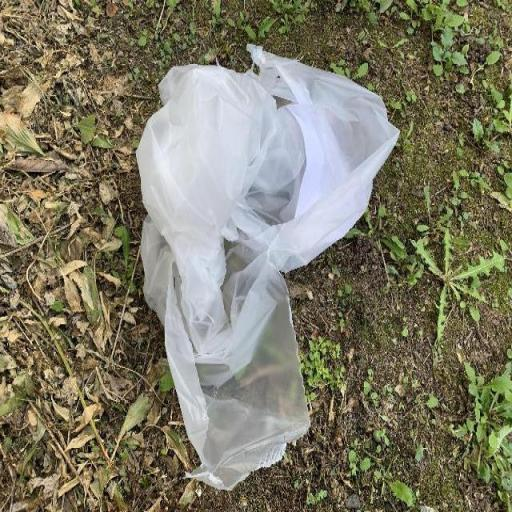plastic-bag: (133, 39, 401, 493)
